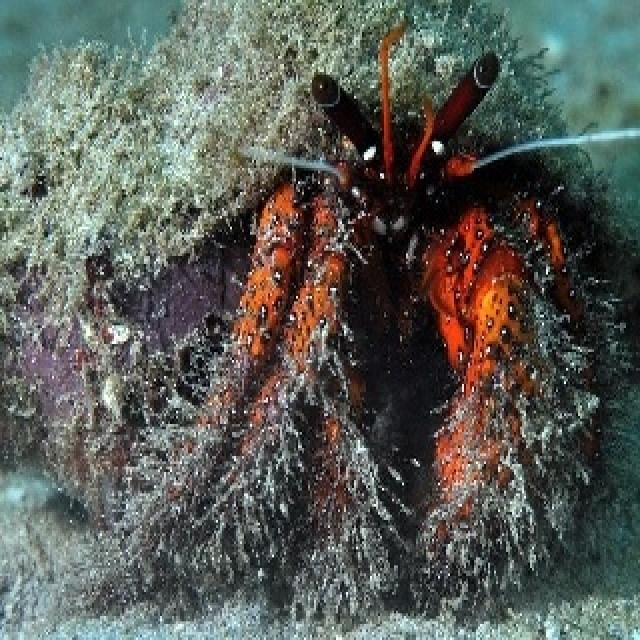fish: (0, 1, 638, 619)
